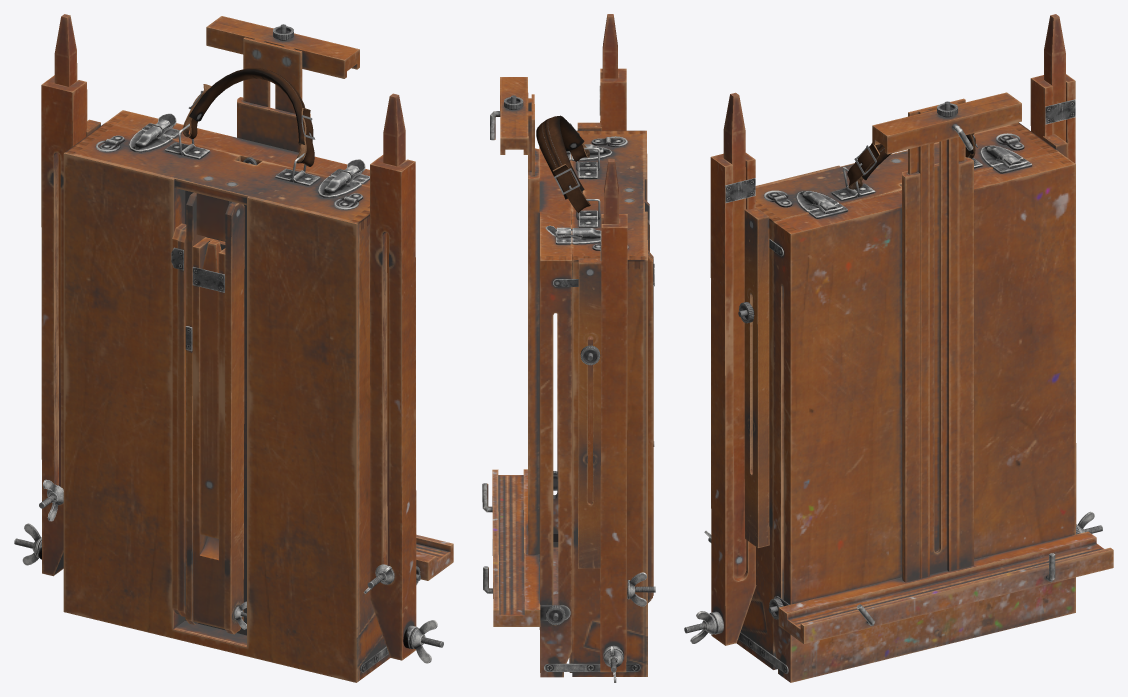
File: EaselBox_SM.fbx
3 renders of one model, left to right at view 1: azimuth 30°, elevation 25°; view 2: azimuth 150°, elevation 25°; view 3: azimuth 270°, elevation 25°, orthographic. The views are drawn at different scales.
Visible parts, largest first — view 1: EaselBox_SM; view 2: EaselBox_SM; view 3: EaselBox_SM.
Boxes of the visible parts, x1=… form: EaselBox_SM: x1=14, y1=14, x2=453, y2=682; EaselBox_SM: x1=482, y1=14, x2=655, y2=682; EaselBox_SM: x1=684, y1=14, x2=1113, y2=682.
Bounding box in the file's own units: 33.34 × 62.3 × 42.64.
